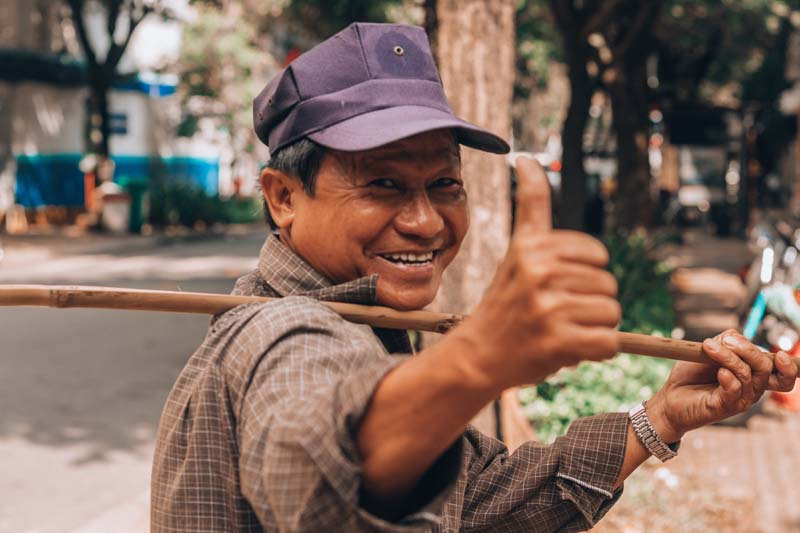Thumbs Up: (464, 151, 636, 421)
